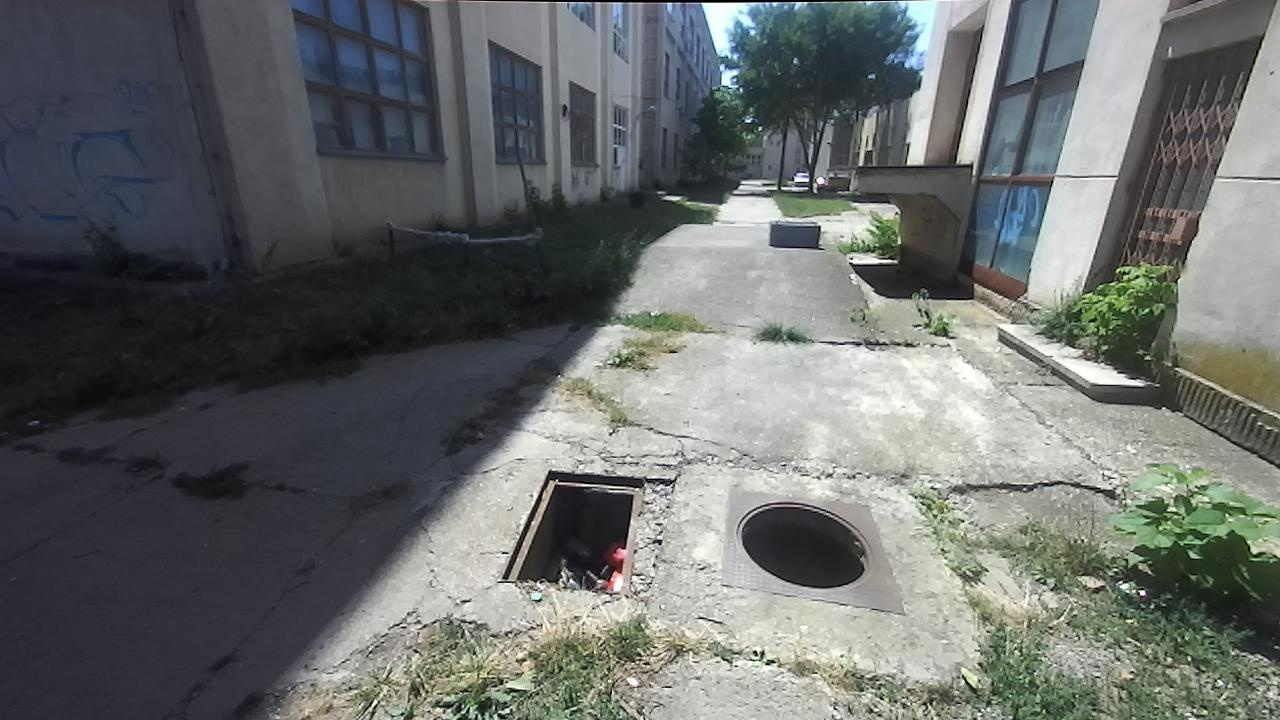drain: (491, 468, 651, 596), (727, 494, 884, 595)
